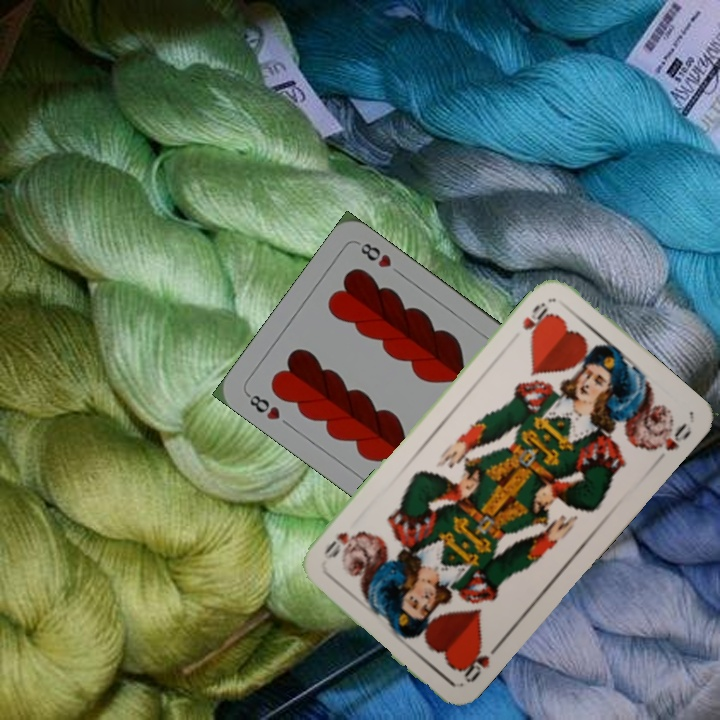H8: (242, 389, 283, 423)
HO: (455, 638, 504, 686), (518, 298, 554, 342)
